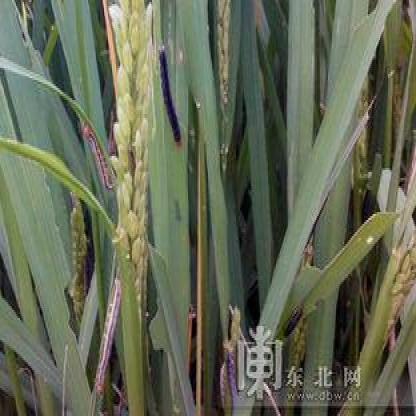armyworm: (93, 274, 124, 399), (155, 46, 185, 154), (79, 122, 116, 198), (216, 346, 236, 416), (283, 301, 304, 342)
